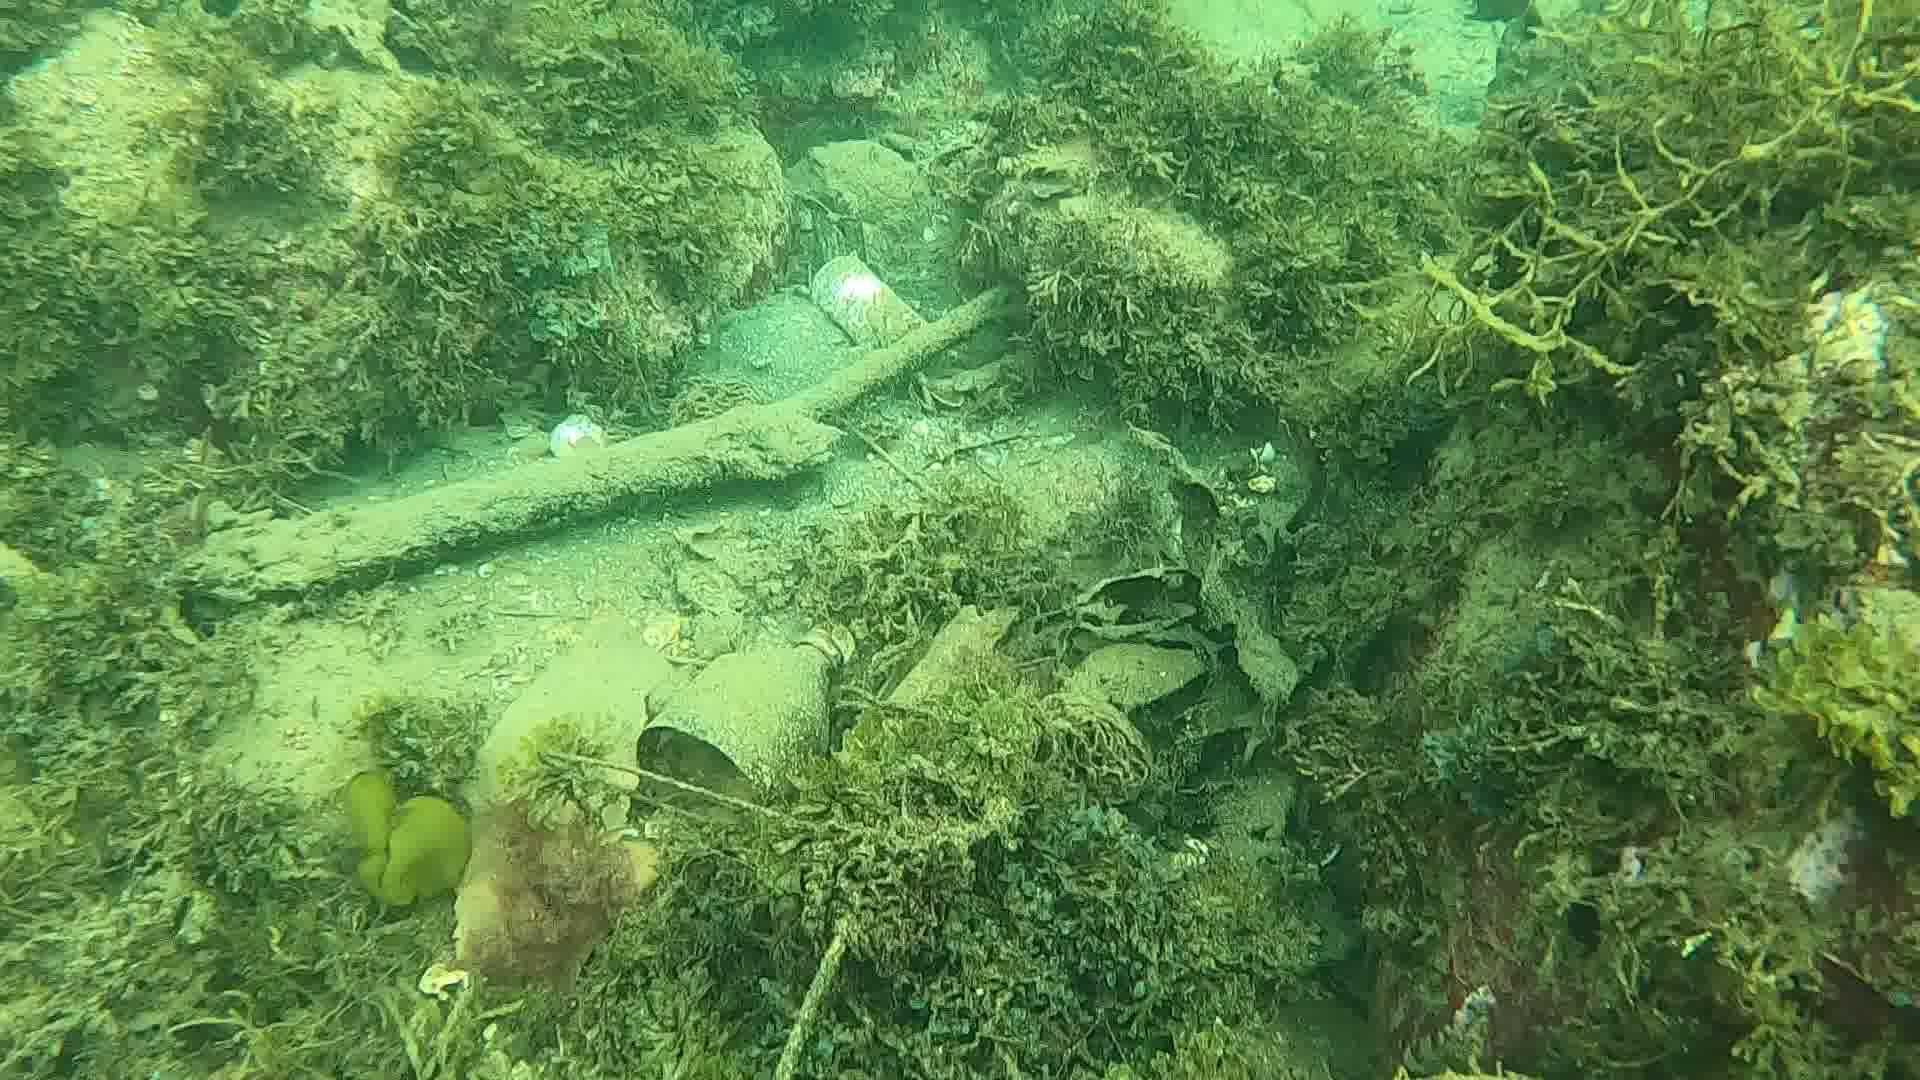rope: (770, 931, 853, 1080)
wood: (167, 285, 1001, 608)
